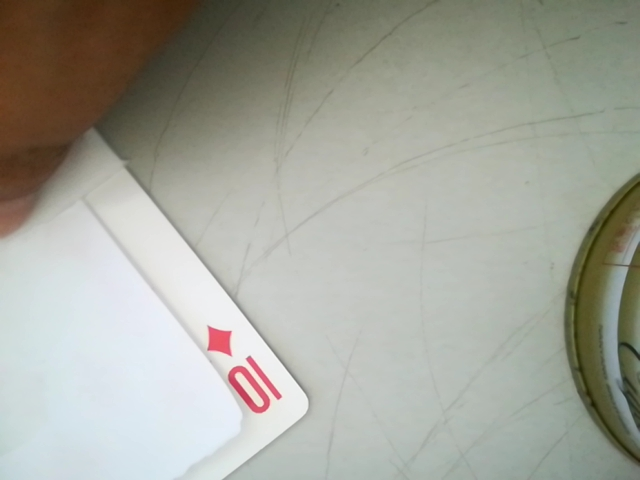fk 10: (189, 316, 287, 426)
